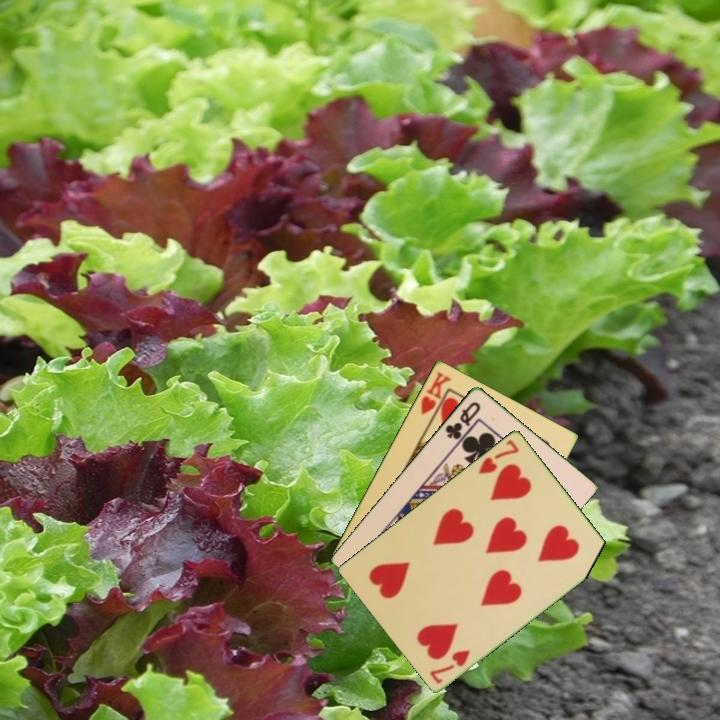7h: (475, 435, 522, 477), (426, 645, 473, 686)
Kh: (417, 368, 454, 424)
Qc: (441, 397, 483, 442)
